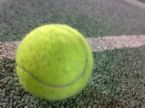tennis ball: (15, 22, 98, 101)
